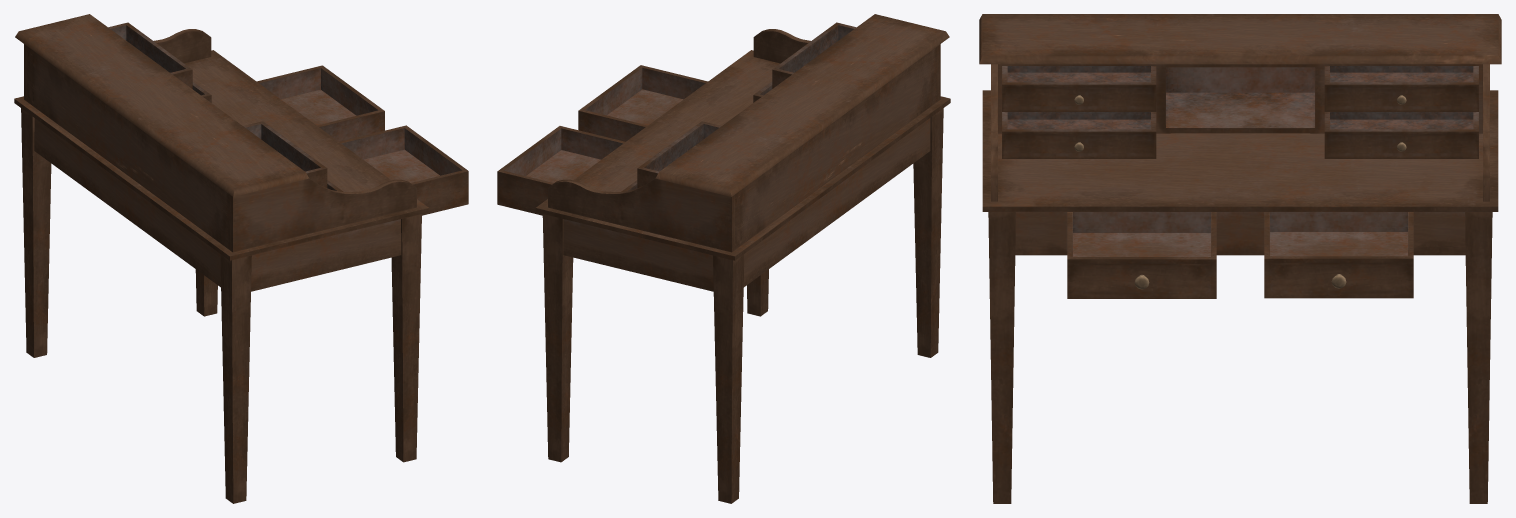
The picture shows the model from 3 angles, left to right: view 1: azimuth 30°, elevation 25°; view 2: azimuth 150°, elevation 25°; view 3: azimuth 270°, elevation 25°; orthographic projection. The views are drawn at different scales.
Visible parts, largest first — view 1: Base_low, legs_low, Top_low, Drawers_low, TopD__low, Sides_low; view 2: Base_low, legs_low, Top_low, Drawers_low, TopD__low, Sides_low; view 3: Drawers_low, Base_low, Top_low, legs_low, TopD__low, Sides_low, Knobs_low.
Boxes of the visible parts, x1,y1,x2,y2 form: Base_low: [14, 50, 428, 291]; legs_low: [21, 108, 421, 503]; Top_low: [15, 14, 309, 196]; Drawers_low: [108, 22, 468, 215]; TopD__low: [27, 46, 229, 249]; Sides_low: [24, 29, 416, 252]; Base_low: [535, 50, 950, 291]; legs_low: [542, 108, 943, 503]; Top_low: [655, 14, 949, 196]; Drawers_low: [497, 22, 856, 215]; TopD__low: [735, 46, 937, 249]; Sides_low: [548, 29, 940, 252]; Drawers_low: [1002, 66, 1478, 298]; Base_low: [982, 90, 1498, 255]; Top_low: [979, 14, 1501, 64]; legs_low: [988, 212, 1492, 503]; TopD__low: [998, 64, 1482, 133]; Sides_low: [991, 64, 1489, 201]; Knobs_low: [1074, 95, 1406, 289].
Size of the model in its own units: 1.01 by 1.09 by 1.35.
1 material, 1 textured.
